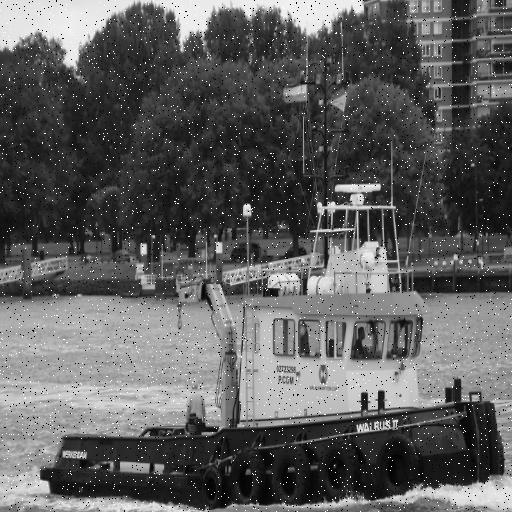tugboat: (39, 176, 510, 512)
